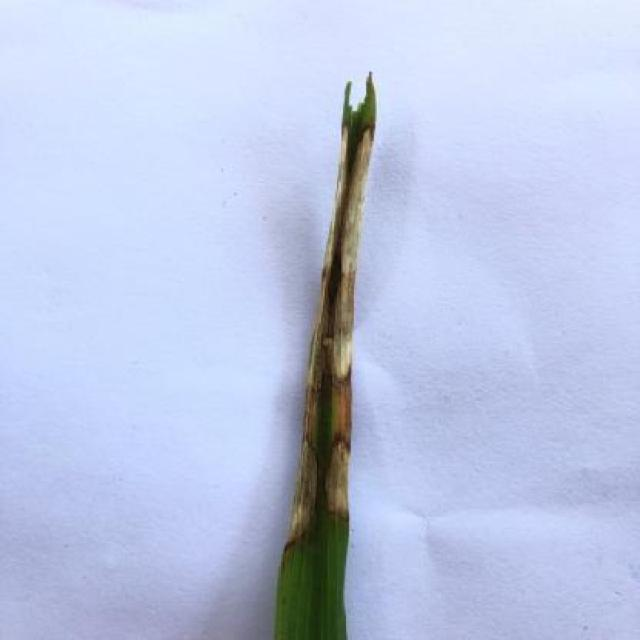Brown_Spot: (267, 60, 382, 640)
